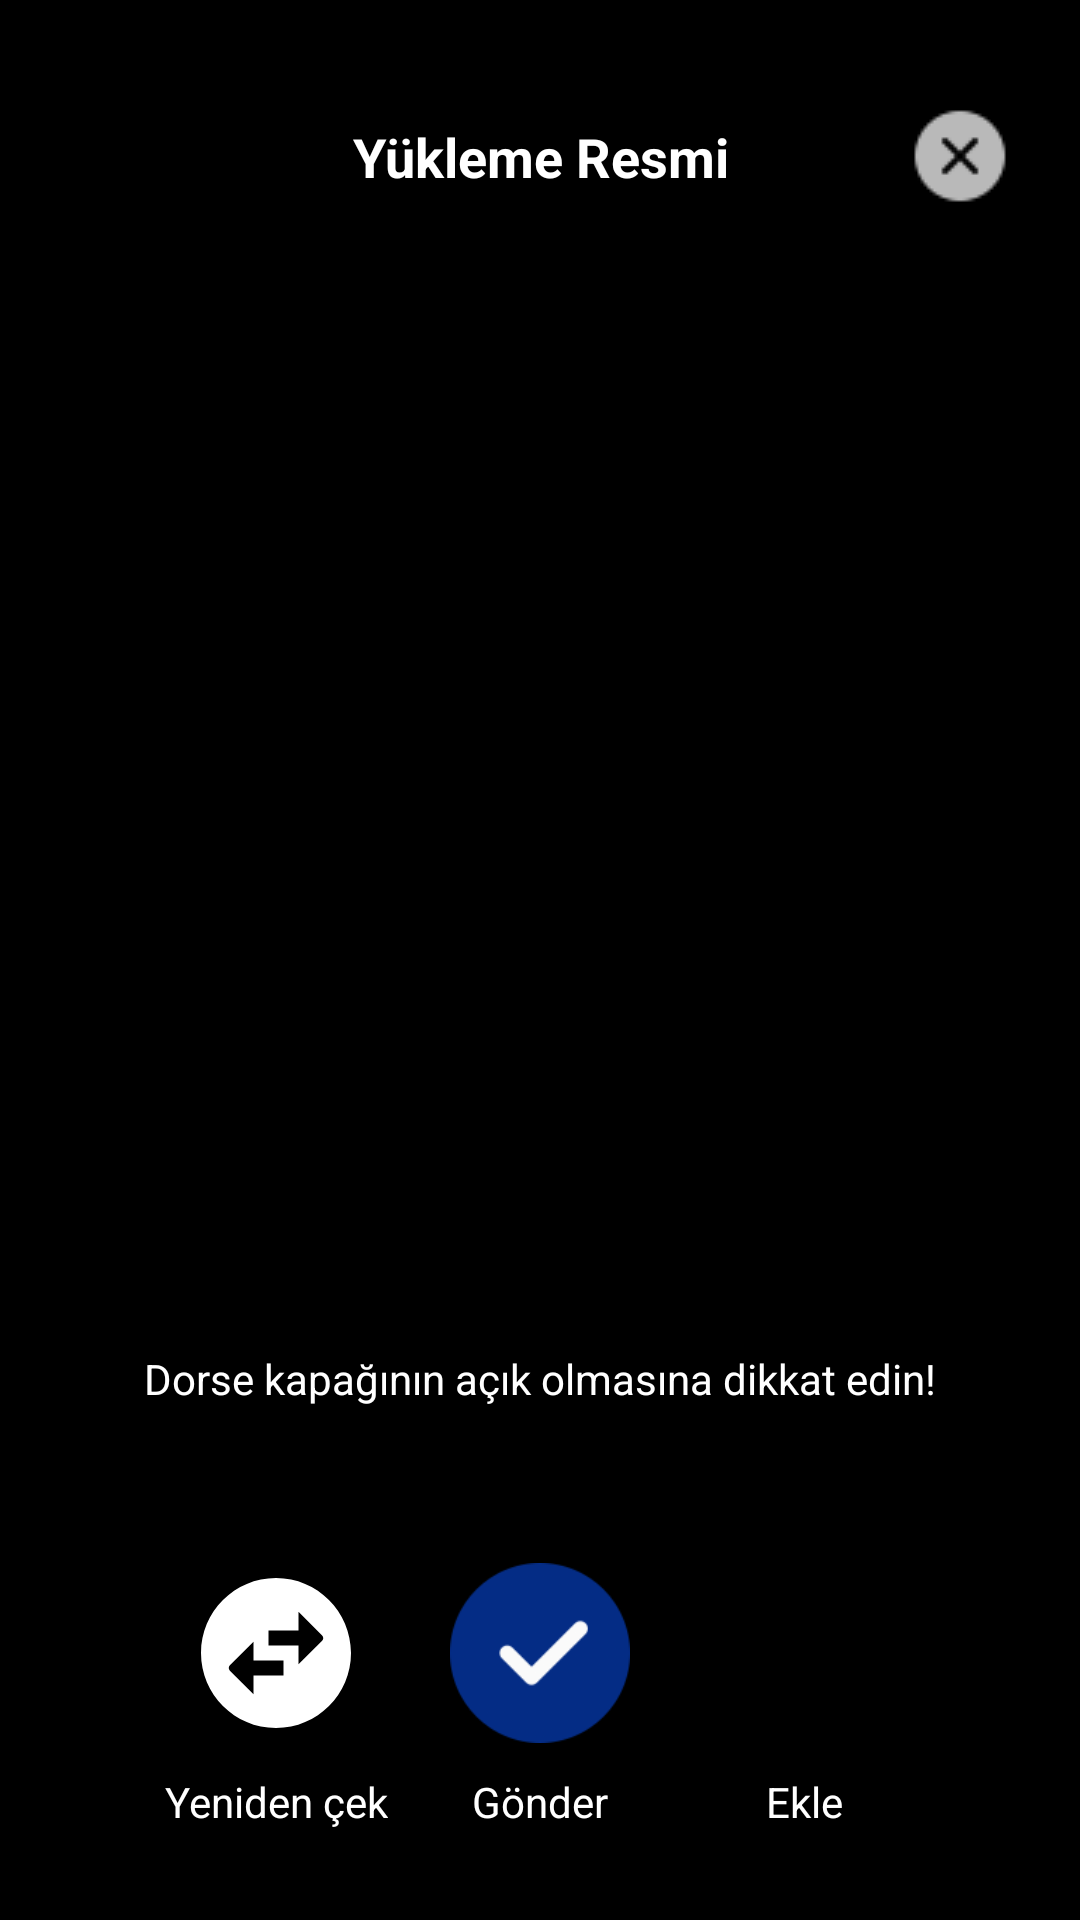

Icon click points for this 1080x1920 phone screenshot, format [x,y]:
change: [276,1653]
close: [960,156]
